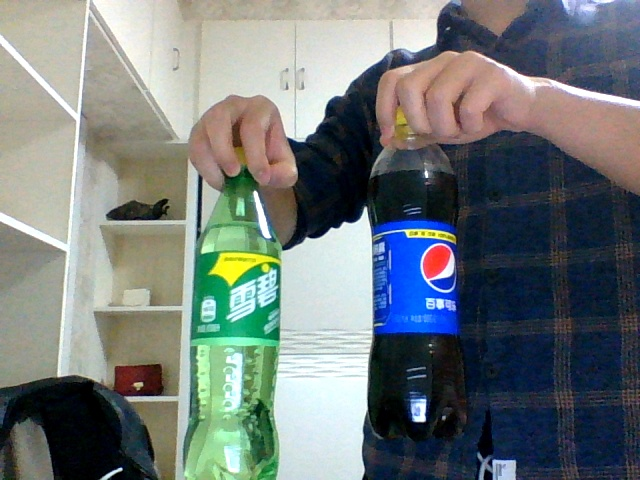Cola: (363, 105, 469, 443)
Sprite: (188, 147, 281, 479)
